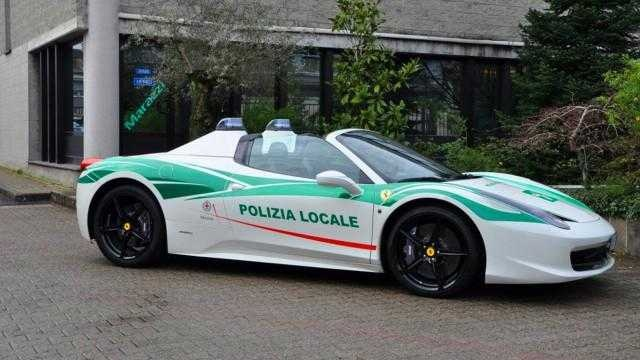Police Car: (60, 91, 640, 334)
